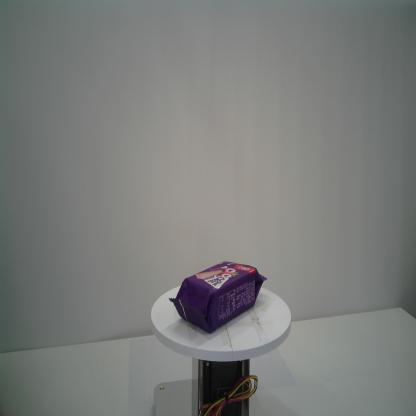Dessert: (168, 260, 268, 334)
